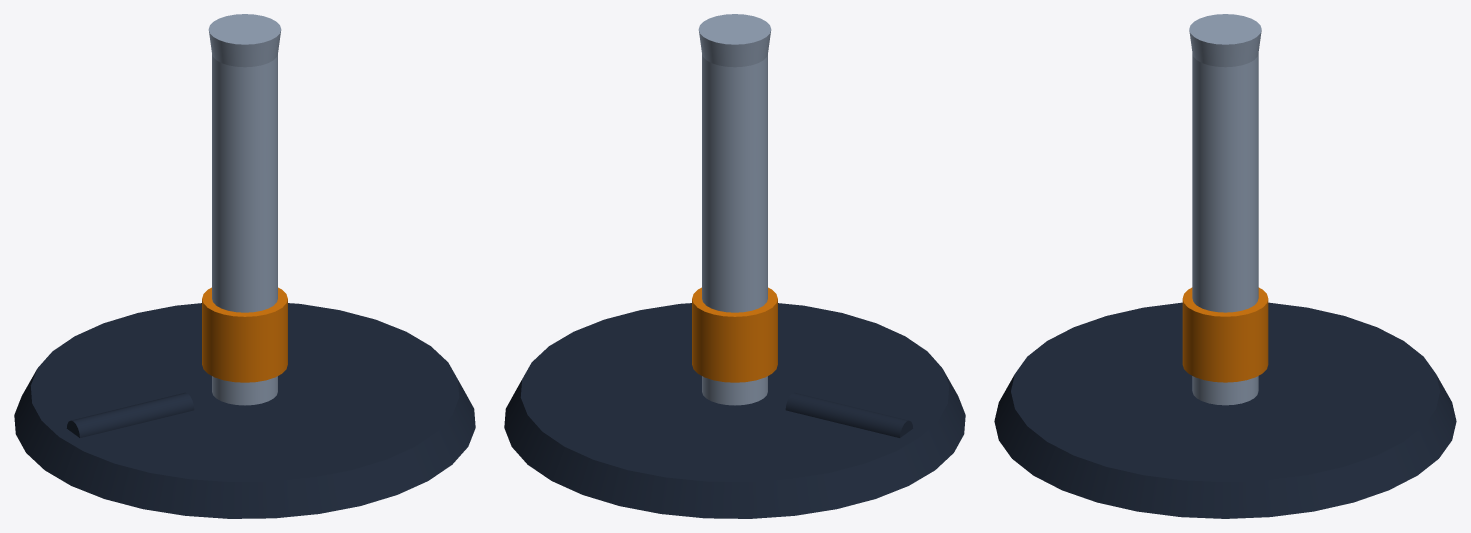
File: burner.glb
3 views of the same model, side by side, from view 1: azimuth 30°, elevation 25°; view 2: azimuth 150°, elevation 25°; view 3: azimuth 270°, elevation 25° (orthographic).
Parts seen in each view (by area): view 1: BunsenBurner; view 2: BunsenBurner; view 3: BunsenBurner.
Part boxes in pixels (<box>): BunsenBurner: <box>14,14,475,518</box>; BunsenBurner: <box>504,14,965,518</box>; BunsenBurner: <box>994,14,1456,518</box>.
Size of the model in its own units: 1.4 by 1.31 by 1.4.
